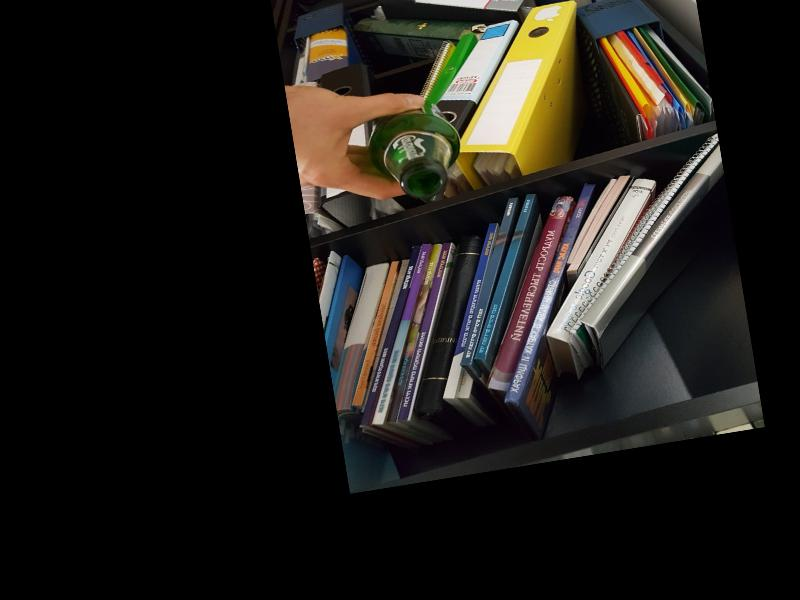Beer: (366, 95, 466, 203)
